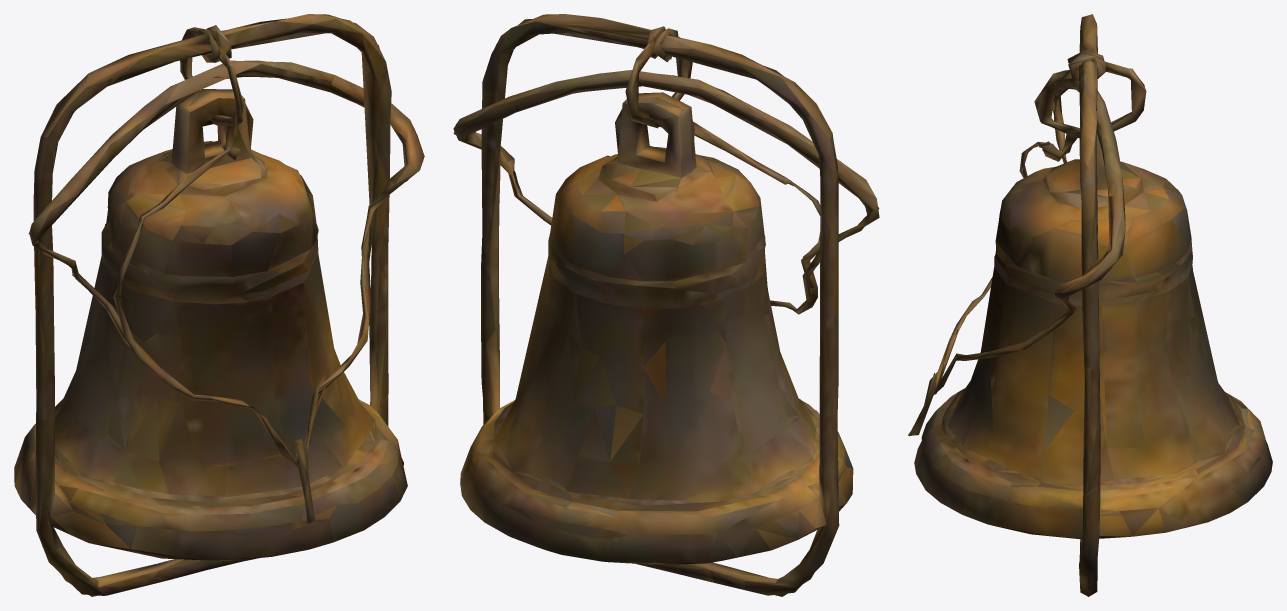
Rendered from prop_bell_01.glb.
The picture shows the model from 3 angles, left to right: view 1: azimuth 30°, elevation 25°; view 2: azimuth 150°, elevation 25°; view 3: azimuth 270°, elevation 25°; orthographic projection. The views are drawn at different scales.
Parts seen in each view (by area): view 1: geometry_0; view 2: geometry_0; view 3: geometry_0.
Boxes of the visible parts, x1,y1,x2,y2 form: geometry_0: [14, 14, 424, 596]; geometry_0: [453, 14, 879, 596]; geometry_0: [908, 14, 1272, 596].
Size of the model in its own units: 0.7844 by 1 by 0.6725.
Materials: 1 (1 with a texture image).
